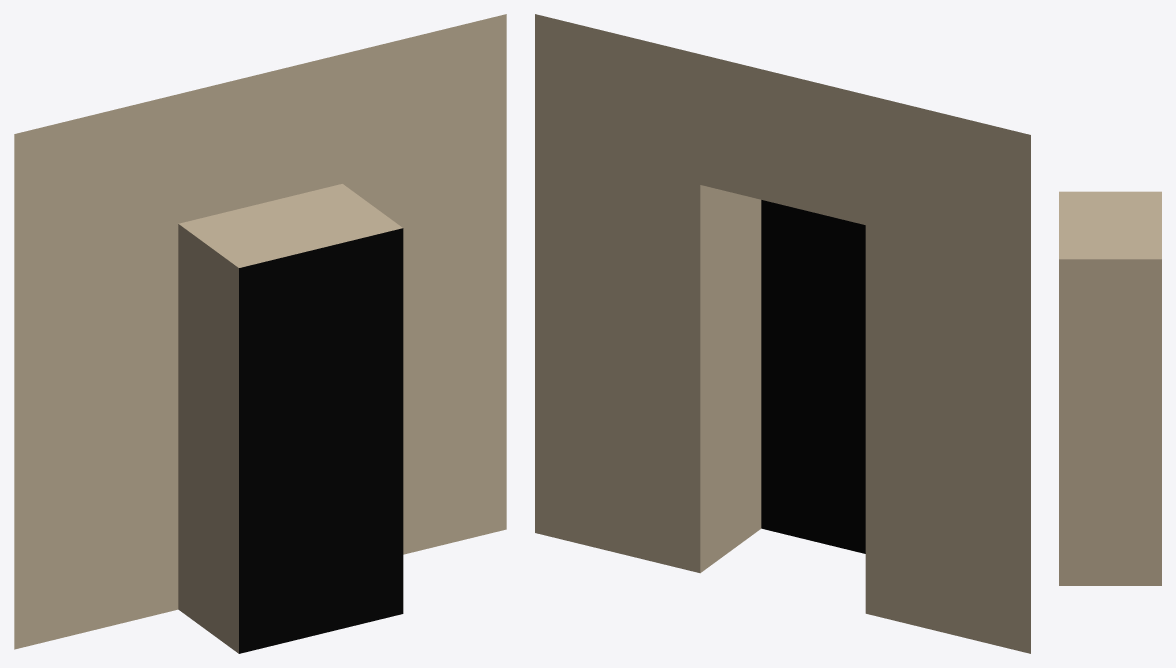
File: door_01.fbx
3 views of the same model, side by side, from view 1: azimuth 30°, elevation 25°; view 2: azimuth 150°, elevation 25°; view 3: azimuth 270°, elevation 25° (orthographic). The views are drawn at different scales.
Parts seen in each view (by area): view 1: Door_Final; view 2: Door_Final; view 3: Door_Final.
Boxes of the visible parts, x1=… form: Door_Final: x1=14, y1=14, x2=506, y2=653; Door_Final: x1=535, y1=14, x2=1030, y2=653; Door_Final: x1=1059, y1=191, x2=1161, y2=585.
Bounding box in the file's own units: 99.98 × 99.98 × 21.32.
